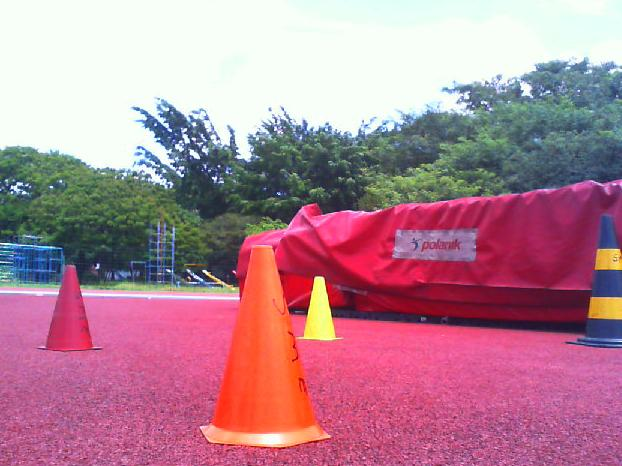0 cone: (200, 245, 330, 448), (564, 216, 622, 348), (38, 265, 102, 351), (298, 276, 343, 340)
